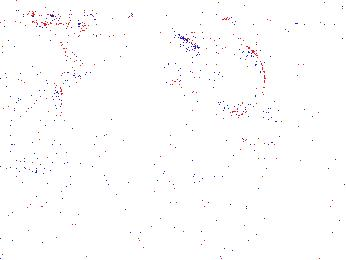moon jellyfish: (199, 90, 286, 151), (9, 83, 65, 173), (1, 34, 66, 109), (210, 40, 266, 118), (169, 45, 235, 95)
